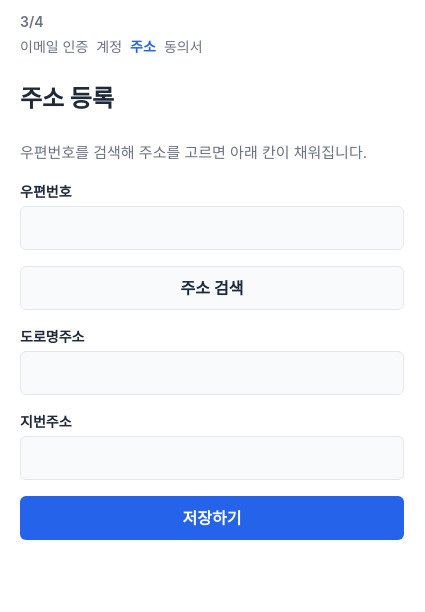
Test case: SignupAddressPage › should show an error message when opening the popup fails
What coordinates should you click on to do the following:
click the button "주소 검색"
I would click on:
 (212, 288)
Its box is [20,266,404,310].
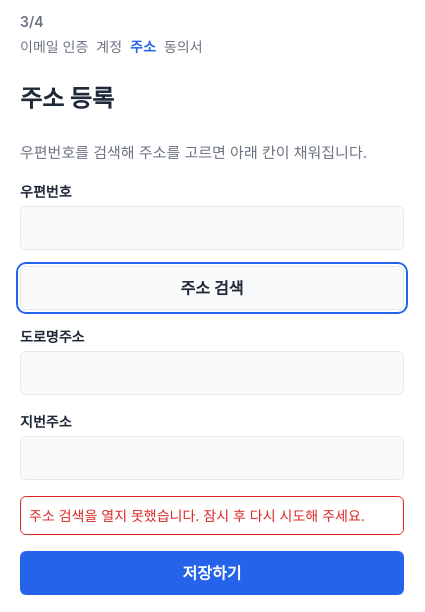
Result: the message reads "주소 검색을 열지 못했습니다. 잠시 후 다시 시도해 주세요." at [29,507,365,524]
